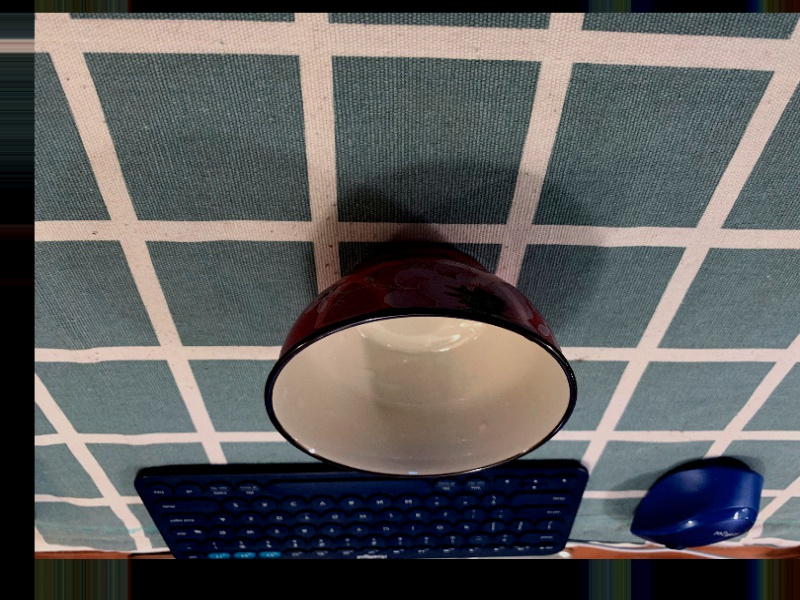bowl_small: (259, 235, 586, 483)
